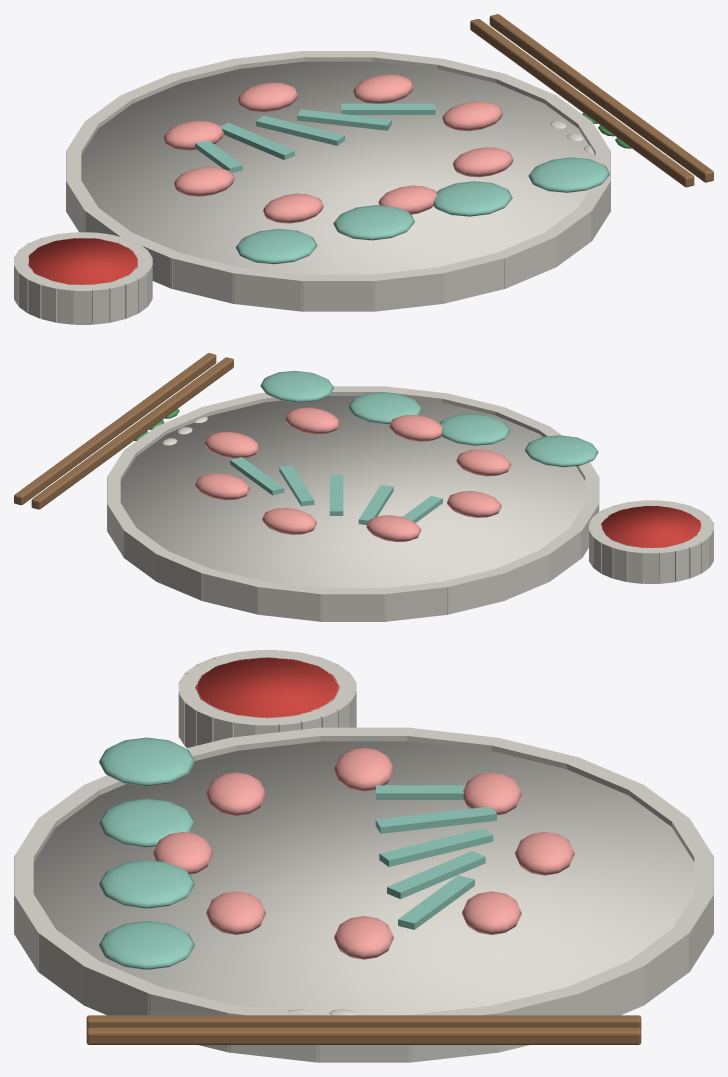
File: BangeoSashimi_blockout.glb
3 renders of one model, top to bottom at view 1: azimuth 30°, elevation 25°; view 2: azimuth 150°, elevation 25°; view 3: azimuth 270°, elevation 25°, orthographic. The views are drawn at different scales.
Visible parts, largest first — view 1: FOOD07_BangeoSashimi_Broth_L0, FOOD07_BangeoSashimi_Sauce_L0, FOOD07_BangeoSashimi_Chopstick0_L0, FOOD07_BangeoSashimi_Chopstick1_L0, FOOD07_BangeoSashimi_BowlRim16_L0, FOOD07_BangeoSashimi_BowlRim17_L0, FOOD07_BangeoSashimi_BowlRim15_L0, FOOD07_BangeoSashimi_BowlRim18_L0, FOOD07_BangeoSashimi_BowlRim14_L0, FOOD07_BangeoSashimi_Lettuce3_L0, FOOD07_BangeoSashimi_Lettuce0_L0, FOOD07_BangeoSashimi_Lettuce1_L0 (+38 smaller); view 2: FOOD07_BangeoSashimi_Broth_L0, FOOD07_BangeoSashimi_Sauce_L0, FOOD07_BangeoSashimi_Chopstick0_L0, FOOD07_BangeoSashimi_Chopstick1_L0, FOOD07_BangeoSashimi_BowlRim8_L0, FOOD07_BangeoSashimi_BowlRim7_L0, FOOD07_BangeoSashimi_BowlRim9_L0, FOOD07_BangeoSashimi_BowlRim6_L0, FOOD07_BangeoSashimi_BowlRim10_L0, FOOD07_BangeoSashimi_Lettuce0_L0, FOOD07_BangeoSashimi_Lettuce3_L0, FOOD07_BangeoSashimi_Lettuce1_L0 (+35 smaller); view 3: FOOD07_BangeoSashimi_Broth_L0, FOOD07_BangeoSashimi_Chopstick1_L0, FOOD07_BangeoSashimi_Chopstick0_L0, FOOD07_BangeoSashimi_Sauce_L0, FOOD07_BangeoSashimi_Lettuce0_L0, FOOD07_BangeoSashimi_Lettuce3_L0, FOOD07_BangeoSashimi_Lettuce2_L0, FOOD07_BangeoSashimi_Lettuce1_L0, FOOD07_BangeoSashimi_BowlRim3_L0, FOOD07_BangeoSashimi_BowlRim21_L0, FOOD07_BangeoSashimi_BowlRim20_L0, FOOD07_BangeoSashimi_BowlRim4_L0 (+34 smaller).
Part boxes in pixels (left/top/right/bottom): FOOD07_BangeoSashimi_Broth_L0: left=81, top=61, right=595, bottom=274; FOOD07_BangeoSashimi_Sauce_L0: left=27, top=238, right=137, bottom=284; FOOD07_BangeoSashimi_Chopstick0_L0: left=470, top=19, right=694, bottom=187; FOOD07_BangeoSashimi_Chopstick1_L0: left=489, top=14, right=713, bottom=182; FOOD07_BangeoSashimi_BowlRim16_L0: left=301, top=274, right=375, bottom=311; FOOD07_BangeoSashimi_BowlRim17_L0: left=369, top=267, right=444, bottom=311; FOOD07_BangeoSashimi_BowlRim15_L0: left=232, top=267, right=306, bottom=311; FOOD07_BangeoSashimi_BowlRim18_L0: left=438, top=253, right=506, bottom=303; FOOD07_BangeoSashimi_BowlRim14_L0: left=170, top=253, right=241, bottom=303; FOOD07_BangeoSashimi_Lettuce3_L0: left=528, top=157, right=610, bottom=192; FOOD07_BangeoSashimi_Lettuce0_L0: left=235, top=229, right=317, bottom=264; FOOD07_BangeoSashimi_Lettuce1_L0: left=333, top=205, right=414, bottom=240; FOOD07_BangeoSashimi_Broth_L0: left=120, top=396, right=585, bottom=588; FOOD07_BangeoSashimi_Sauce_L0: left=601, top=505, right=701, bottom=547; FOOD07_BangeoSashimi_Chopstick0_L0: left=31, top=357, right=233, bottom=509; FOOD07_BangeoSashimi_Chopstick1_L0: left=14, top=353, right=216, bottom=505; FOOD07_BangeoSashimi_BowlRim8_L0: left=320, top=588, right=386, bottom=621; FOOD07_BangeoSashimi_BowlRim7_L0: left=257, top=581, right=324, bottom=621; FOOD07_BangeoSashimi_BowlRim9_L0: left=381, top=581, right=448, bottom=621; FOOD07_BangeoSashimi_BowlRim6_L0: left=201, top=568, right=264, bottom=614; FOOD07_BangeoSashimi_BowlRim10_L0: left=442, top=568, right=504, bottom=614; FOOD07_BangeoSashimi_Lettuce0_L0: left=524, top=435, right=598, bottom=467; FOOD07_BangeoSashimi_Lettuce3_L0: left=260, top=370, right=334, bottom=402; FOOD07_BangeoSashimi_Lettuce1_L0: left=439, top=413, right=510, bottom=445; FOOD07_BangeoSashimi_Broth_L0: left=33, top=741, right=694, bottom=1015; FOOD07_BangeoSashimi_Chopstick1_L0: left=86, top=1027, right=641, bottom=1044; FOOD07_BangeoSashimi_Chopstick0_L0: left=86, top=1015, right=641, bottom=1029; FOOD07_BangeoSashimi_Sauce_L0: left=195, top=657, right=339, bottom=718; FOOD07_BangeoSashimi_Lettuce0_L0: left=99, top=737, right=194, bottom=786; FOOD07_BangeoSashimi_Lettuce3_L0: left=99, top=921, right=194, bottom=969; FOOD07_BangeoSashimi_Lettuce2_L0: left=99, top=859, right=194, bottom=908; FOOD07_BangeoSashimi_Lettuce1_L0: left=99, top=798, right=194, bottom=847; FOOD07_BangeoSashimi_BowlRim3_L0: left=564, top=960, right=644, bottom=1015; FOOD07_BangeoSashimi_BowlRim21_L0: left=83, top=960, right=163, bottom=1015; FOOD07_BangeoSashimi_BowlRim20_L0: left=37, top=929, right=100, bottom=1005; FOOD07_BangeoSashimi_BowlRim4_L0: left=627, top=929, right=690, bottom=1005.
Bounding box in the file's own units: 0.3819 × 0.034 × 0.2903.
